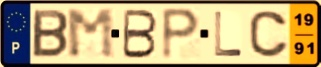B: (30, 8, 70, 60), (120, 8, 160, 60)
C: (247, 9, 291, 59)
L: (213, 10, 244, 58)
M: (64, 7, 117, 61)
P: (160, 6, 202, 62)
